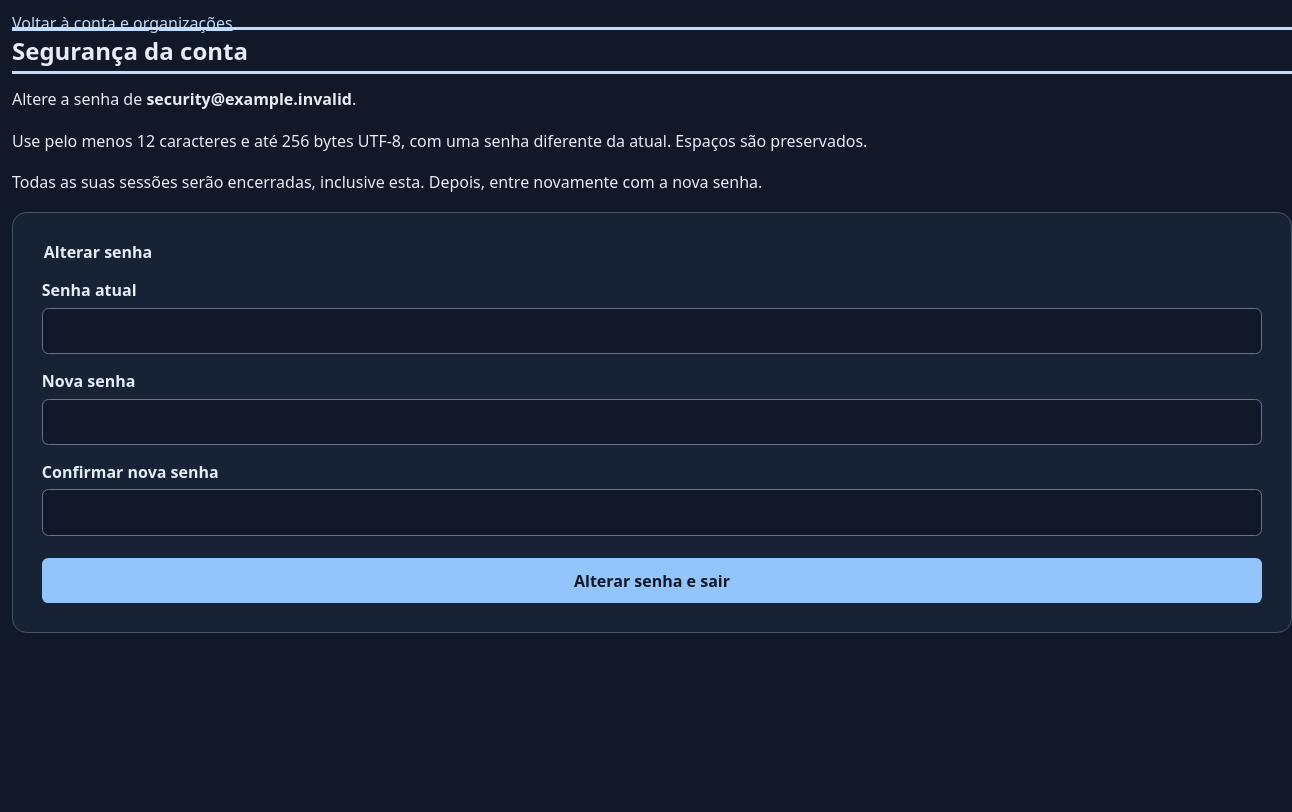
Scenario: limpa campos e libera formulário após senha atual incorreta
In the password field labelled "Senha atual": (652, 331) [42,308,1262,354], type "old-secure-password"
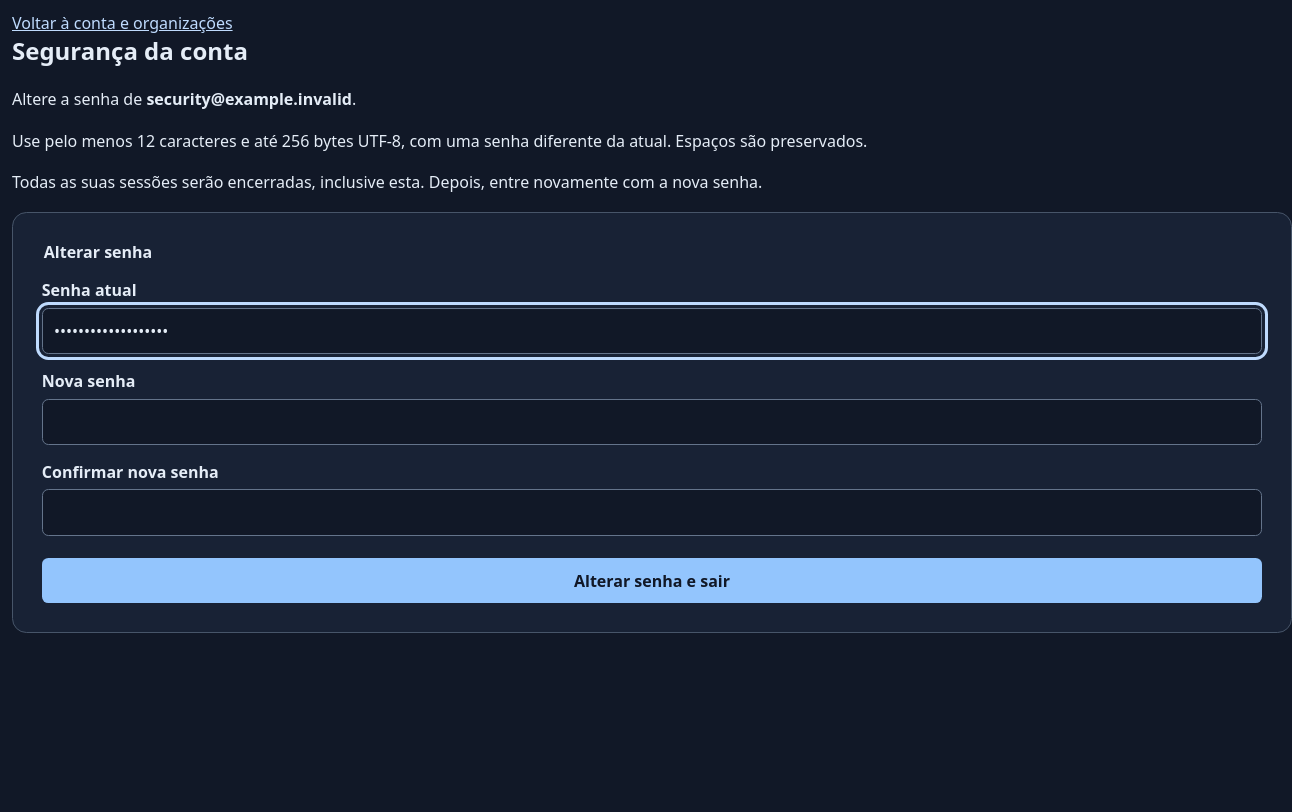
In the password field labelled "Nova senha": (652, 422) [42,399,1262,445], type "new-secure-password"
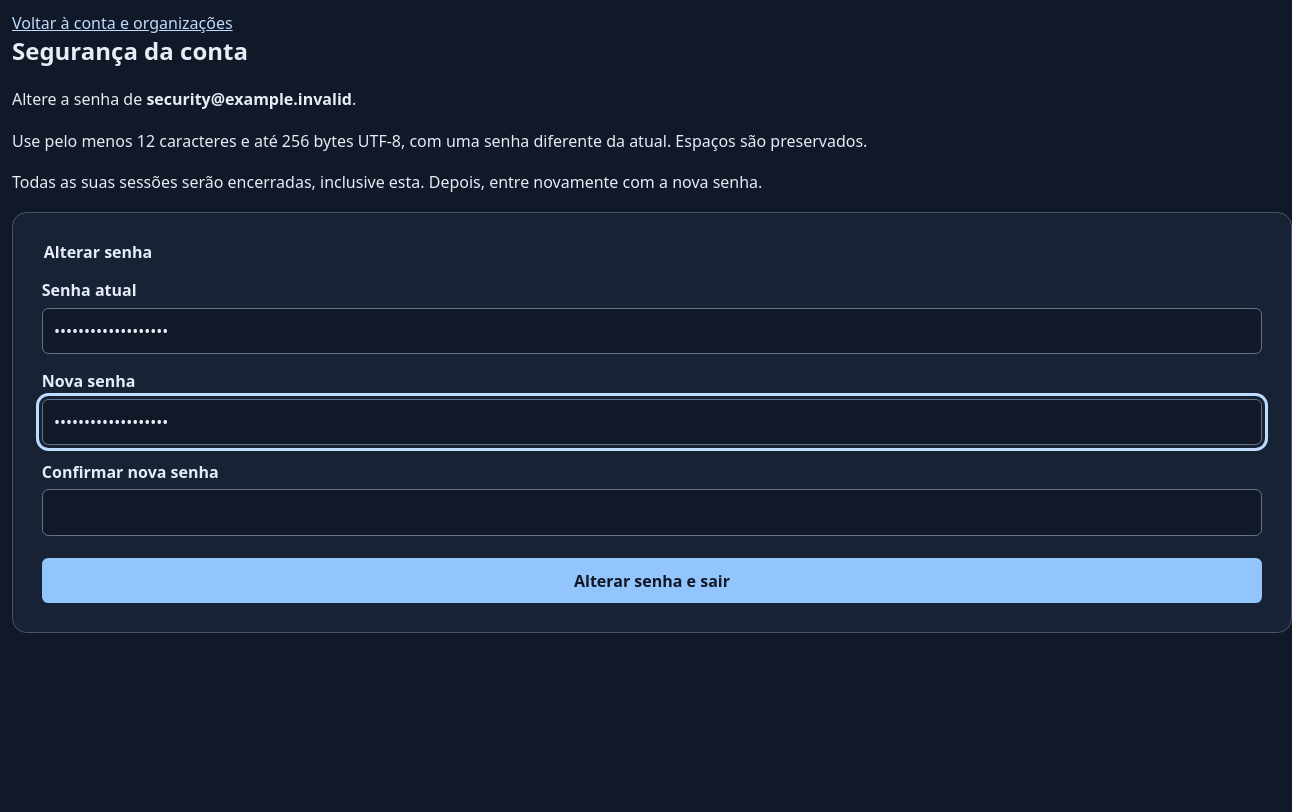
In the password field labelled "Confirmar nova senha": (652, 513) [42,489,1262,536], type "new-secure-password"
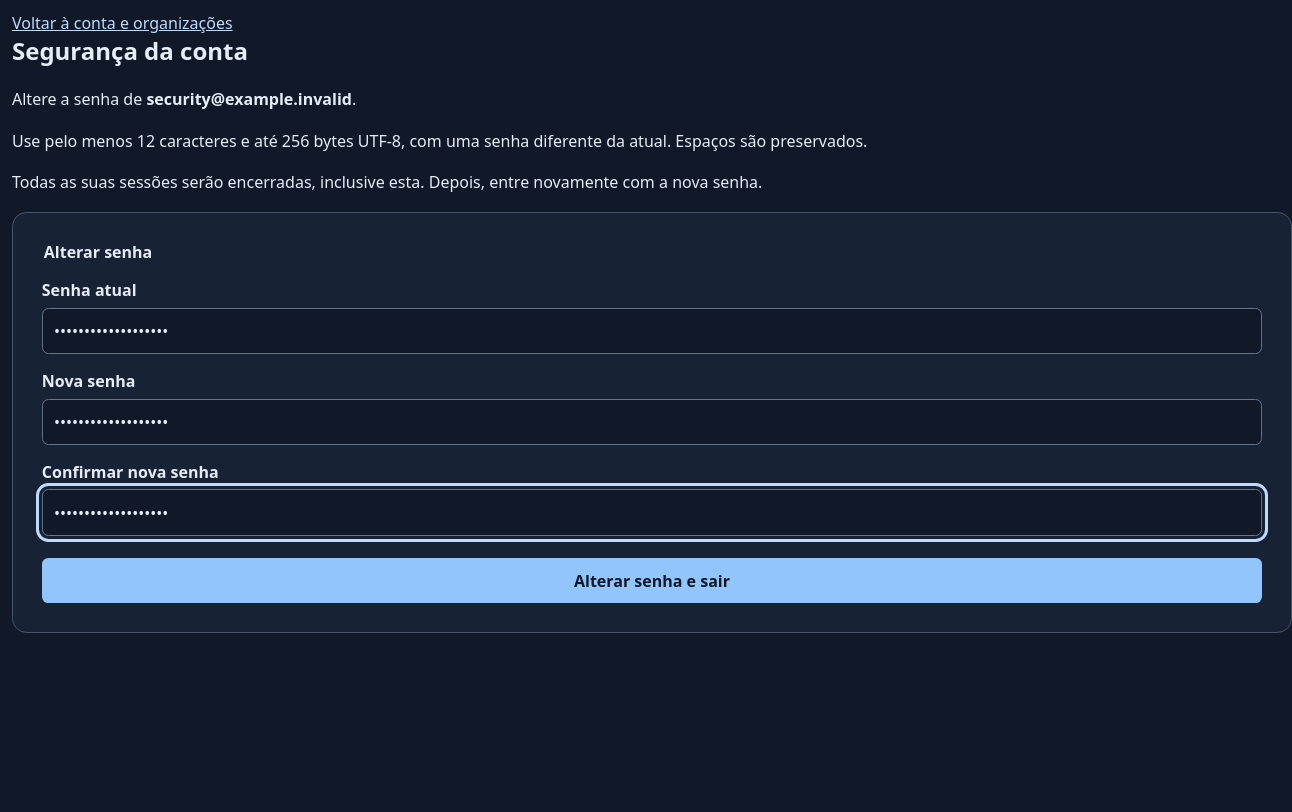
Click the button "Alterar senha e sair": (652, 581) [42,558,1262,603]
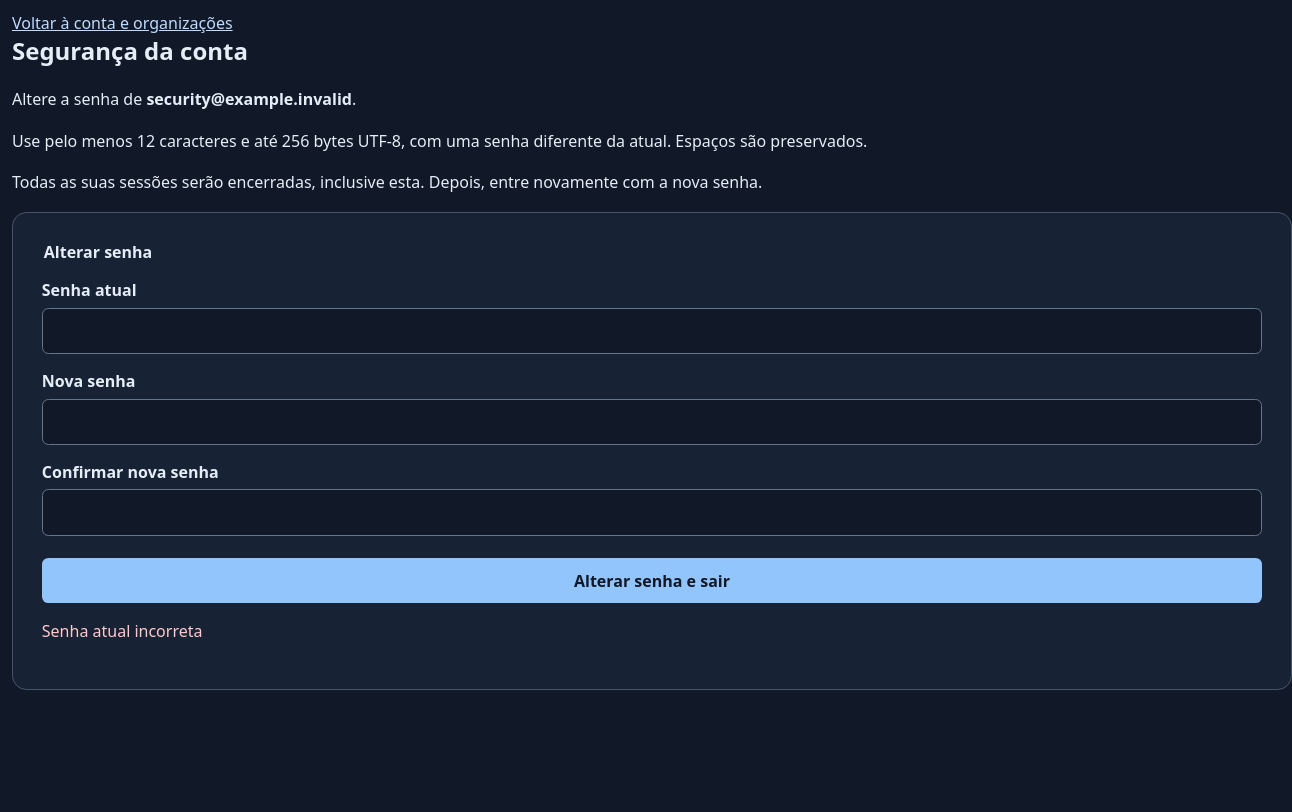
Check: the message "Senha atual incorreta" is shown, box [42,620,202,642]
Check: the password field labelled "Senha atual" is empty, box [42,308,1262,354]
Check: the password field labelled "Nova senha" is empty, box [42,399,1262,445]
